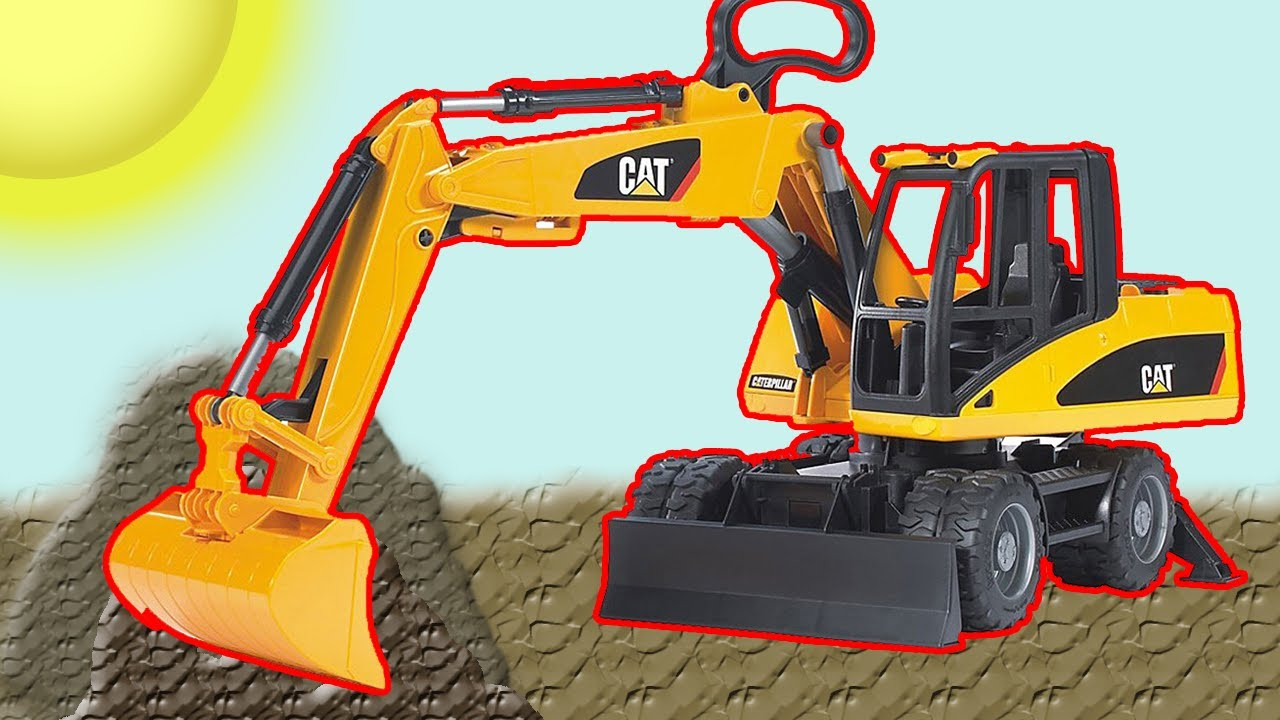backhoe: (97, 20, 1261, 700)
